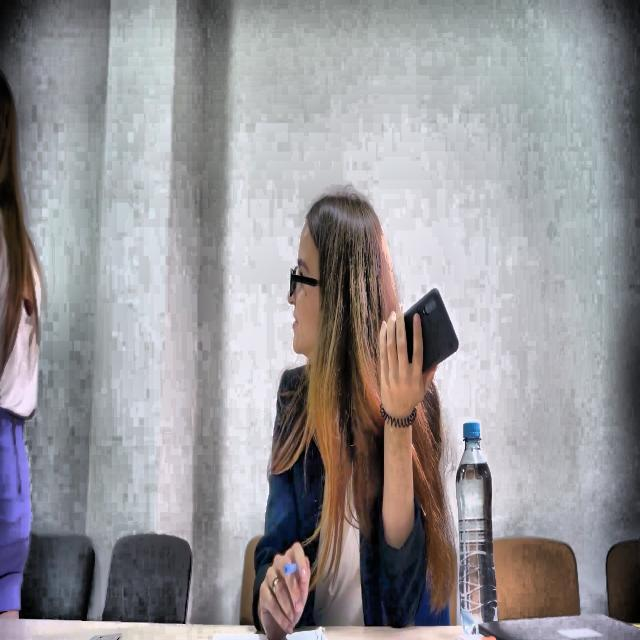Phone: (381, 286, 461, 376)
